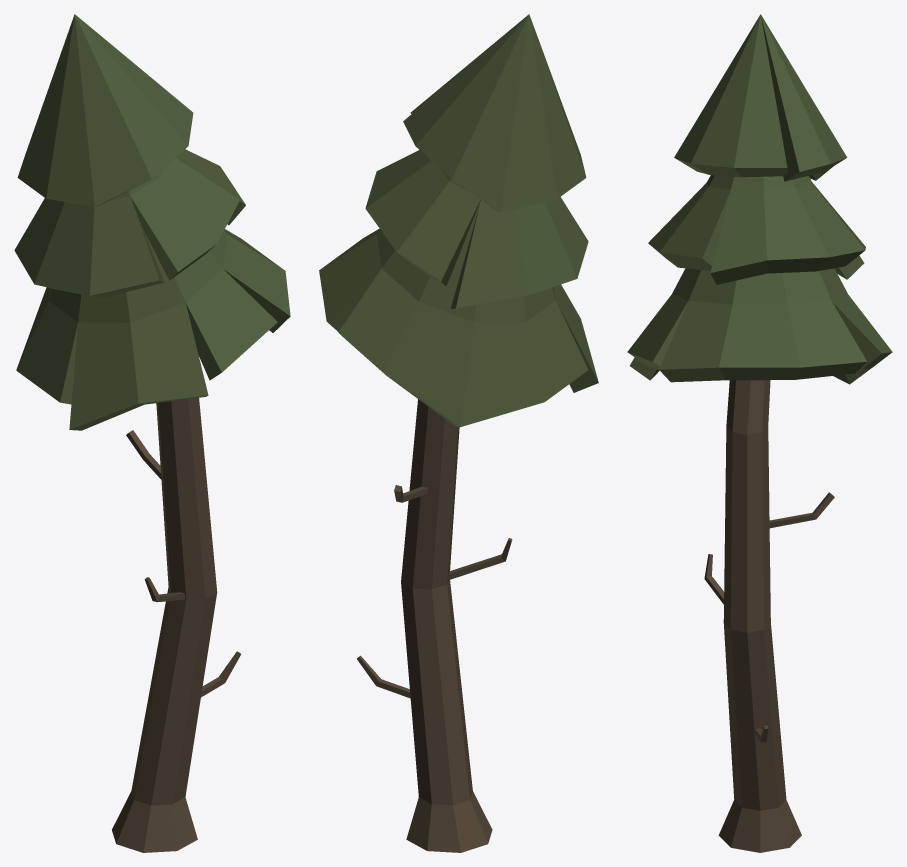
Rendered from SM_Envr_Nature_Tree_Pine_02.fbx.
The picture shows the model from 3 angles, left to right: view 1: azimuth 30°, elevation 25°; view 2: azimuth 150°, elevation 25°; view 3: azimuth 270°, elevation 25°; orthographic projection. The views are drawn at different scales.
Parts seen in each view (by area): view 1: SM_Envr_Nature_Tree_Pine_02; view 2: SM_Envr_Nature_Tree_Pine_02; view 3: SM_Envr_Nature_Tree_Pine_02.
Part boxes in pixels (bbox=[...]): SM_Envr_Nature_Tree_Pine_02: bbox=[14, 14, 290, 852]; SM_Envr_Nature_Tree_Pine_02: bbox=[319, 14, 598, 852]; SM_Envr_Nature_Tree_Pine_02: bbox=[627, 14, 892, 852].
Bounding box in the file's own units: 247 × 853 × 261.
